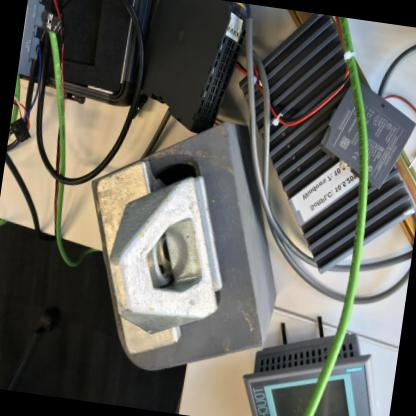CornerCasting: (170, 118, 300, 379)
Twistlock: (70, 152, 240, 374)
